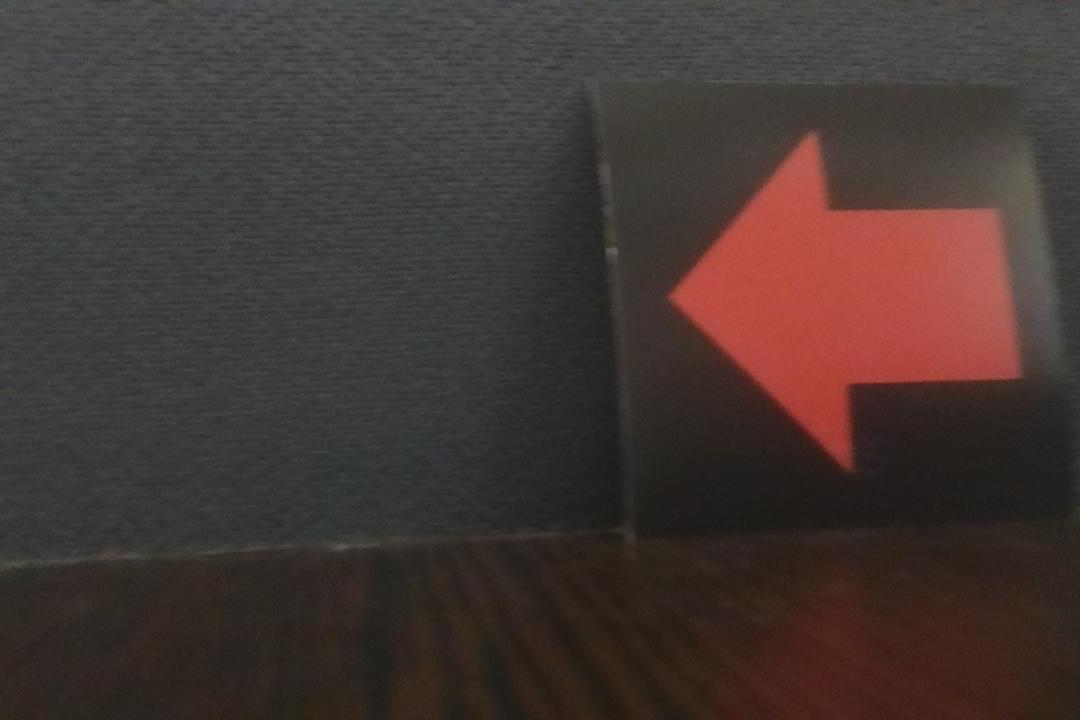left: (581, 80, 1080, 520)
